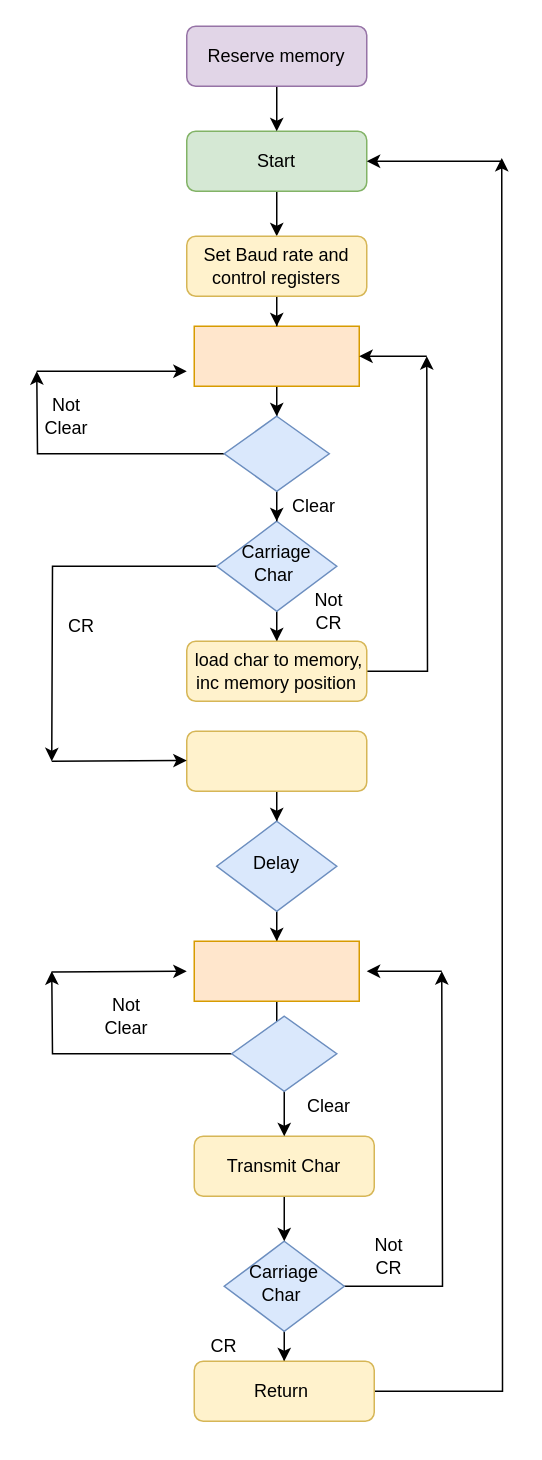
Image size: 542x1460. Some labels were removed from this diagram. The box of each missing label's shape, as (x1, y1, x2, y2) in pixels:
Poll RDRD: (223, 415, 329, 491)
Poll TDRE: (230, 1015, 337, 1091)
Receive function: (193, 325, 359, 386)
Return and add carriage char: (185, 730, 367, 791)
Transmit function: (193, 940, 359, 1001)
